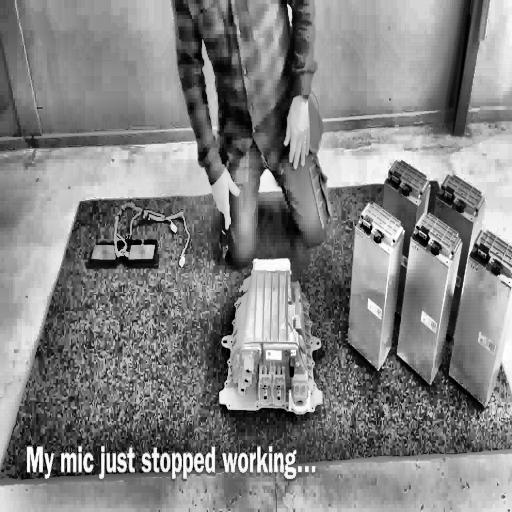battery_module: (397, 211, 465, 386), (448, 227, 511, 410), (347, 199, 405, 370), (437, 169, 486, 221), (384, 157, 432, 206)
bms_unit: (218, 257, 326, 419)
high_volt_cable: (112, 194, 194, 272)
